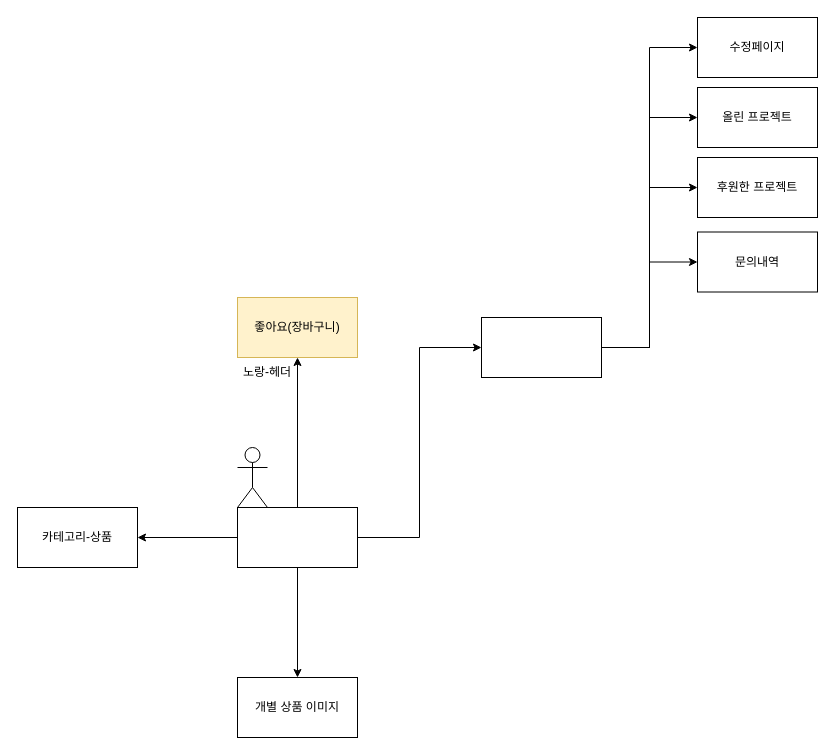
Image size: 835x755. Some labels were removed from this diagram. Here are the shapes that lost their labels. From the top down, the box of each, then its label:
(480, 316, 602, 378): 프로필
(236, 446, 268, 508): Actor
(236, 506, 358, 568): 메인페이지
